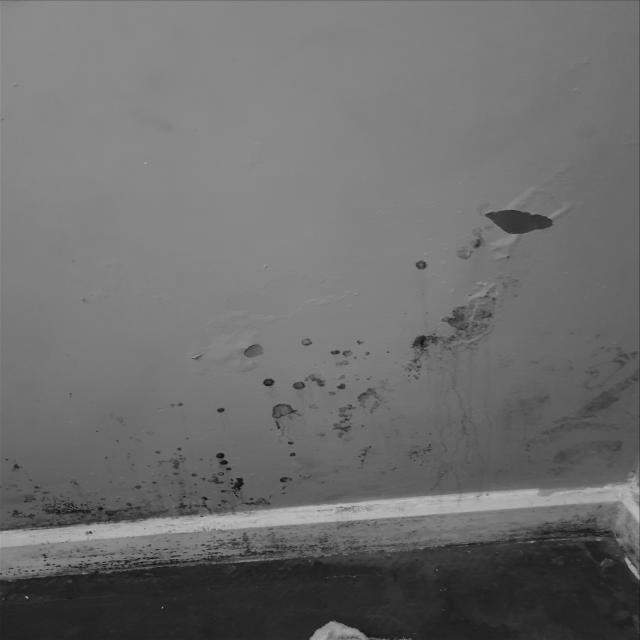peeling paint: (455, 169, 580, 265), (180, 316, 272, 378)
stain marks: (0, 377, 296, 558), (232, 322, 452, 478), (0, 516, 380, 589), (456, 364, 640, 511), (372, 229, 539, 361), (470, 496, 640, 562), (105, 95, 201, 164), (551, 322, 640, 360)
